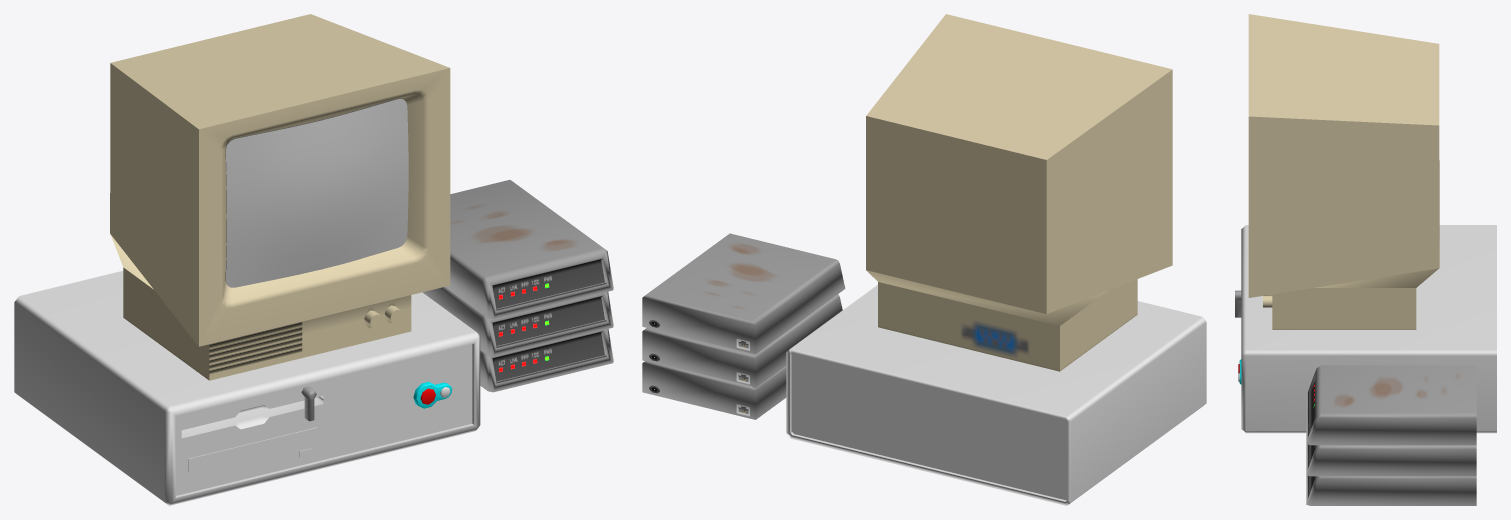
The model's file is oldComputer.fbx.
3 renders of one model, left to right at view 1: azimuth 30°, elevation 25°; view 2: azimuth 150°, elevation 25°; view 3: azimuth 270°, elevation 25°, orthographic. The views are drawn at different scales.
Visible parts, largest first — view 1: pCube4, computer:pCube1, pasted__pCube4, pCube6, pCube5, modem2:pCube1; view 2: pCube4, computer:pCube1, pCube6, pCube5, modem2:pCube1; view 3: pCube4, computer:pCube1, pCube6, pCube5, modem2:pCube1.
Part boxes in pixels (x1=…): pCube4: x1=110, y1=14, x2=450, y2=380; computer:pCube1: x1=14, y1=271, x2=480, y2=505; pasted__pCube4: x1=226, y1=99, x2=408, y2=287; pCube6: x1=445, y1=180, x2=613, y2=319; pCube5: x1=423, y1=287, x2=613, y2=356; modem2:pCube1: x1=480, y1=329, x2=613, y2=392; pCube4: x1=866, y1=14, x2=1172, y2=371; computer:pCube1: x1=786, y1=285, x2=1206, y2=505; pCube6: x1=642, y1=233, x2=845, y2=354; pCube5: x1=642, y1=294, x2=842, y2=387; modem2:pCube1: x1=642, y1=360, x2=786, y2=419; pCube4: x1=1248, y1=14, x2=1439, y2=329; computer:pCube1: x1=1241, y1=225, x2=1496, y2=433; pCube6: x1=1306, y1=365, x2=1476, y2=445; pCube5: x1=1306, y1=444, x2=1476, y2=476; modem2:pCube1: x1=1306, y1=475, x2=1476, y2=505.
Size of the model in its own units: 6.06 by 4.37 by 3.37.
